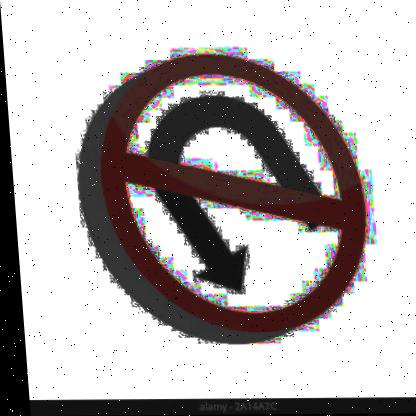No U-turn: (75, 48, 375, 345)
